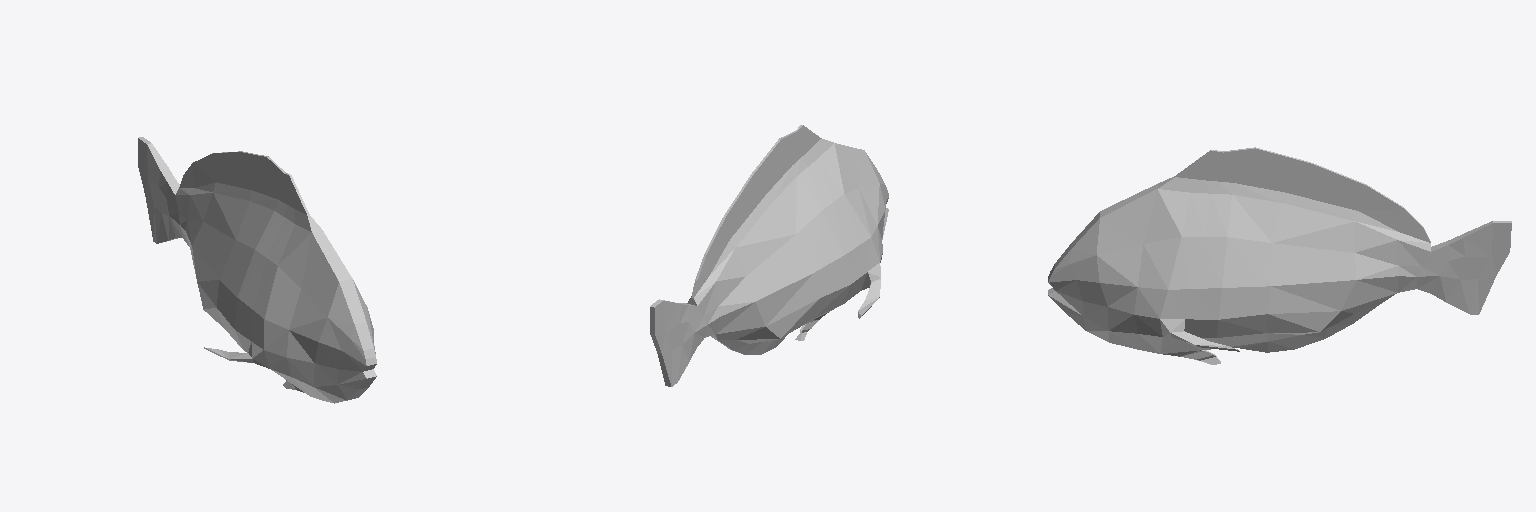
File: TropicalFish2.obj
3 views of the same model, side by side, from view 1: azimuth 30°, elevation 25°; view 2: azimuth 150°, elevation 25°; view 3: azimuth 270°, elevation 25° (orthographic).
Parts seen in each view (by area): view 1: TropicalFish02.001_TropicalFish02.001_02___Default.001; view 2: TropicalFish02.001_TropicalFish02.001_02___Default.001; view 3: TropicalFish02.001_TropicalFish02.001_02___Default.001.
Boxes of the visible parts, box(x1,y1,x2,y2) form: TropicalFish02.001_TropicalFish02.001_02___Default.001: box(138, 137, 376, 403); TropicalFish02.001_TropicalFish02.001_02___Default.001: box(650, 125, 888, 386); TropicalFish02.001_TropicalFish02.001_02___Default.001: box(1048, 147, 1511, 364).
Size of the model in its own units: 0.4152 by 0.5925 by 1.15.